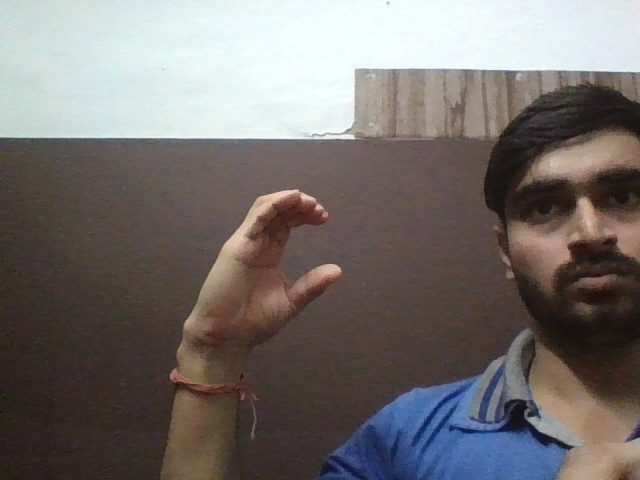C: (203, 183, 355, 336)
